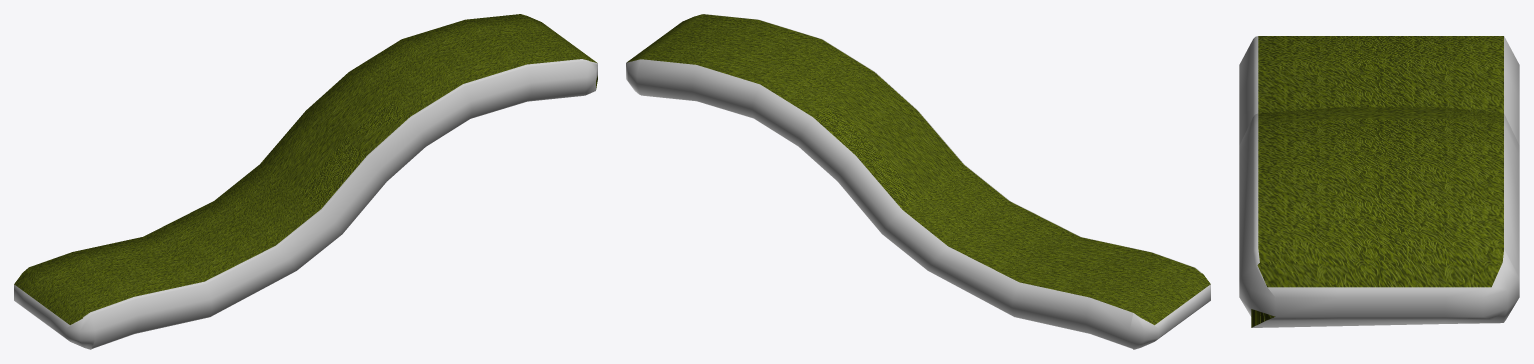
Rendered from platform2_floating_ramp.fbx.
The picture shows the model from 3 angles, left to right: view 1: azimuth 30°, elevation 25°; view 2: azimuth 150°, elevation 25°; view 3: azimuth 270°, elevation 25°; orthographic projection. The views are drawn at different scales.
Parts seen in each view (by area): view 1: Mesh; view 2: Mesh; view 3: Mesh.
Boxes of the visible parts, left/top/right/bottom form: Mesh: left=14, top=14, right=597, bottom=349; Mesh: left=626, top=14, right=1210, bottom=349; Mesh: left=1239, top=36, right=1519, bottom=327.
Size of the model in its own units: 1774 by 588 by 405.
